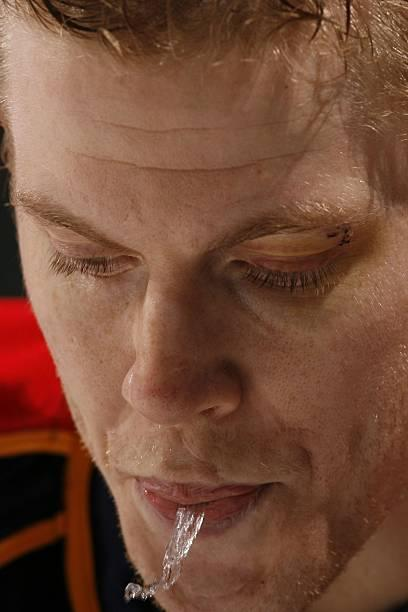Spitting: (0, 0, 408, 609)
